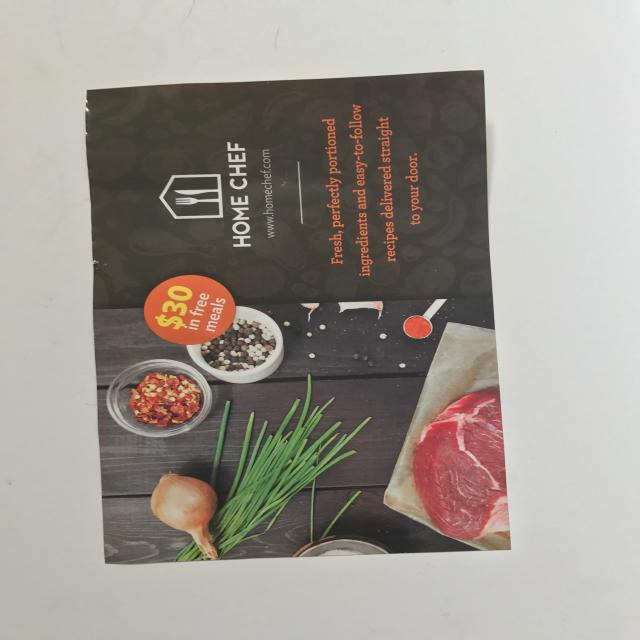paper: (87, 68, 510, 564)
